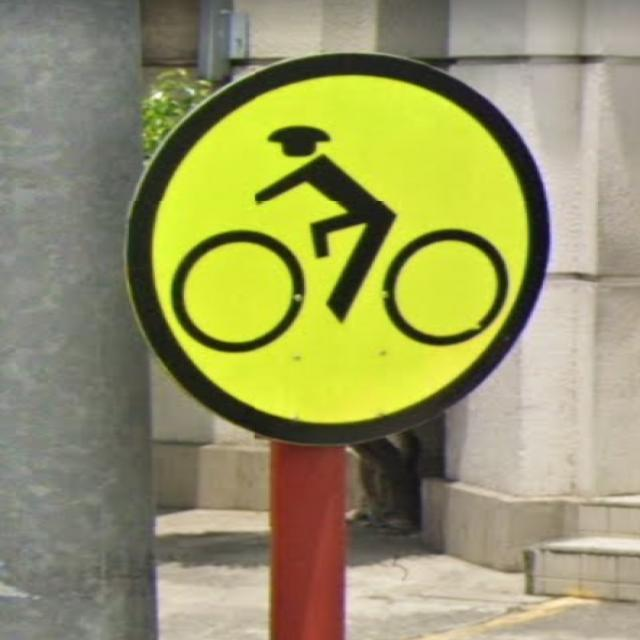bike lane: (125, 51, 548, 442)
